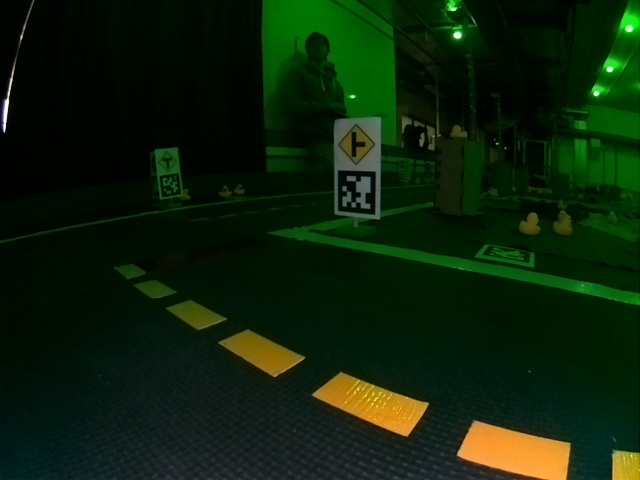Duckie: (519, 212, 540, 234), (554, 216, 573, 234), (450, 125, 467, 138), (219, 187, 229, 194), (235, 184, 243, 190), (181, 190, 189, 196)
Intersection sign: (339, 123, 375, 163), (157, 150, 178, 173)
QR code: (337, 170, 376, 216), (475, 245, 536, 269), (159, 175, 182, 197)
